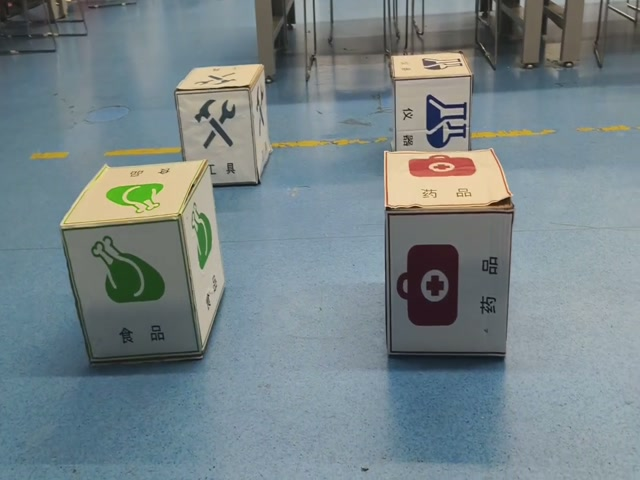Cube_food: (61, 158, 209, 229)
Cube_ins: (386, 52, 475, 80)
Cube_medicine: (382, 149, 512, 214)
Cube_tool: (177, 64, 262, 92)
